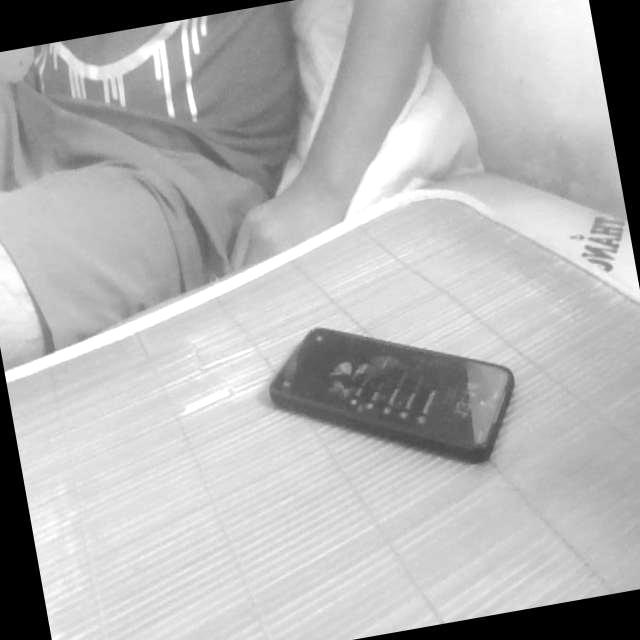phone: (235, 272, 550, 518)
